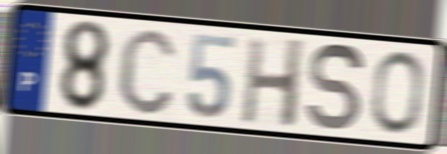5: (184, 30, 237, 122)
8: (58, 18, 111, 114)
C: (115, 24, 179, 118)
H: (239, 35, 308, 132)
O: (370, 48, 426, 138)
S: (305, 40, 368, 135)
